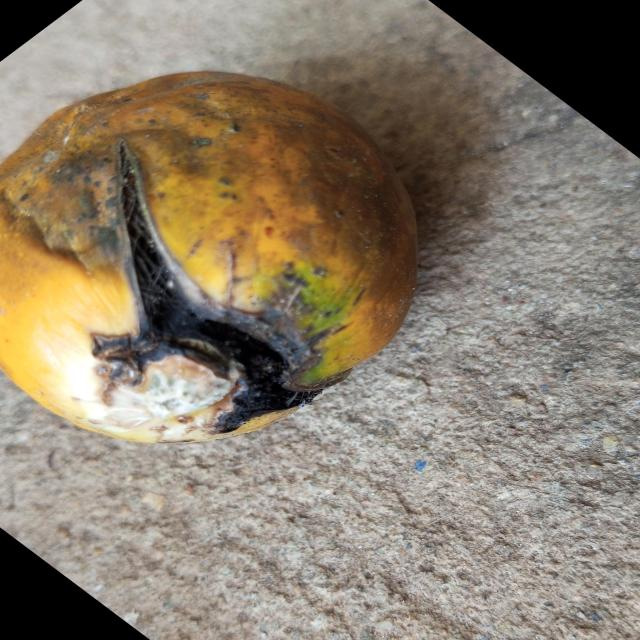damaged: (0, 71, 419, 448)
